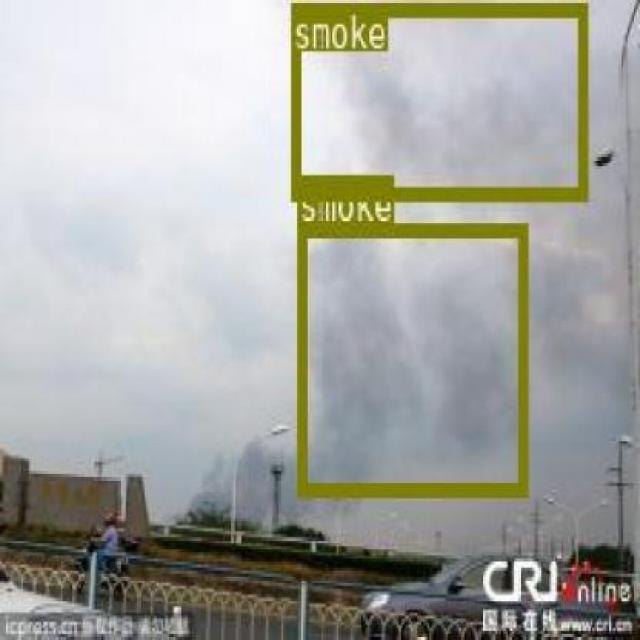Smoke: (296, 222, 524, 493), (290, 3, 586, 197)
